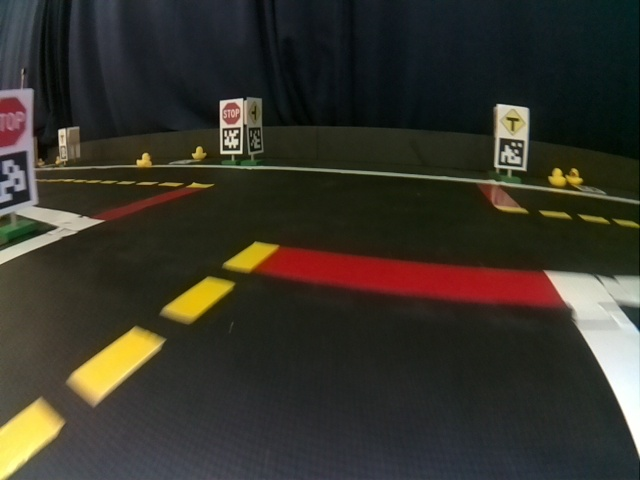Duckie: (548, 169, 566, 187), (566, 168, 581, 185), (136, 153, 152, 166), (192, 146, 207, 159)
Intersection sign: (500, 108, 525, 136), (249, 101, 261, 123), (59, 130, 68, 145)
QR code: (3, 151, 31, 209), (496, 138, 525, 168), (222, 128, 241, 150), (572, 185, 606, 194), (249, 129, 261, 151), (169, 159, 194, 166), (59, 146, 68, 161)
Stop sign: (0, 91, 32, 148), (222, 102, 241, 124)
